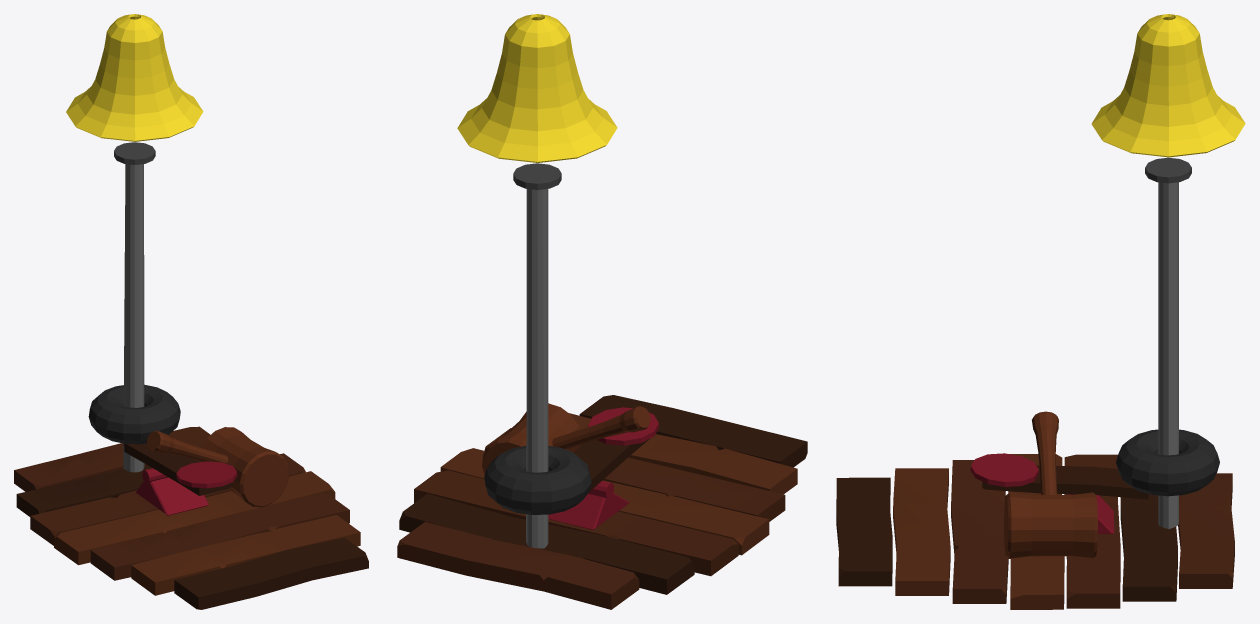
Rendered from Bell.fbx.
3 views of the same model, side by side, from view 1: azimuth 30°, elevation 25°; view 2: azimuth 150°, elevation 25°; view 3: azimuth 270°, elevation 25° (orthographic). The views are drawn at different scales.
Parts seen in each view (by area): view 1: Plane.005; view 2: Plane.005; view 3: Plane.005.
Boxes of the visible parts, left/top/right/bottom form: Plane.005: left=14, top=14, right=368, bottom=609; Plane.005: left=397, top=14, right=807, bottom=609; Plane.005: left=836, top=14, right=1245, bottom=609.
Size of the model in its own units: 375 by 648 by 459.
